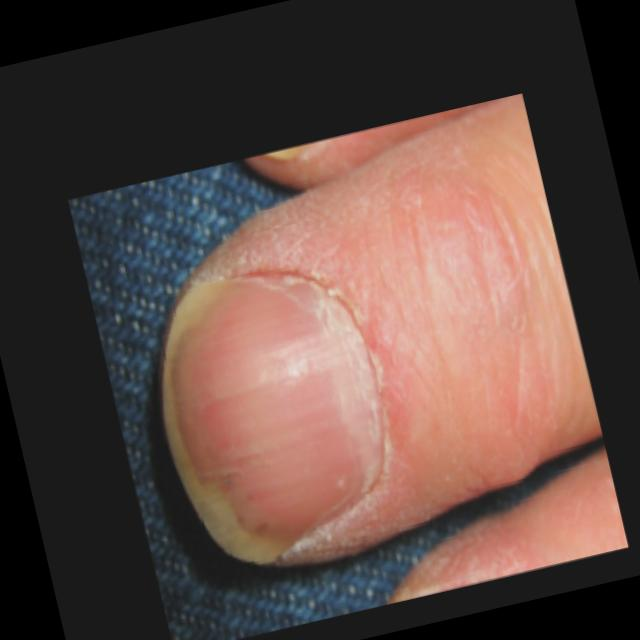Nail: (163, 273, 381, 563)
